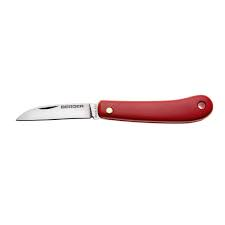knife: (12, 91, 217, 137)
